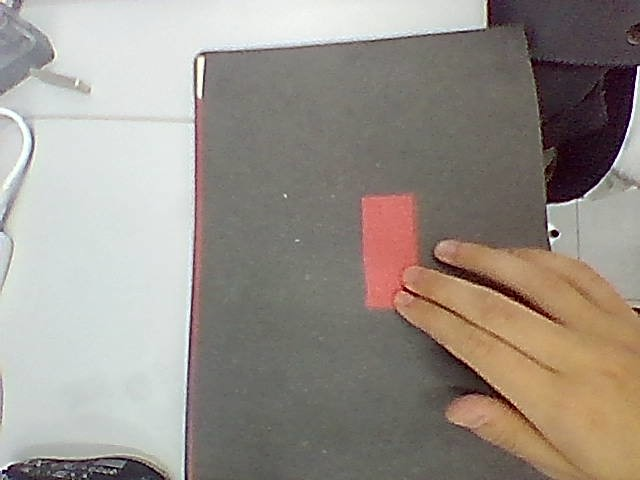card: (362, 194, 417, 309)
